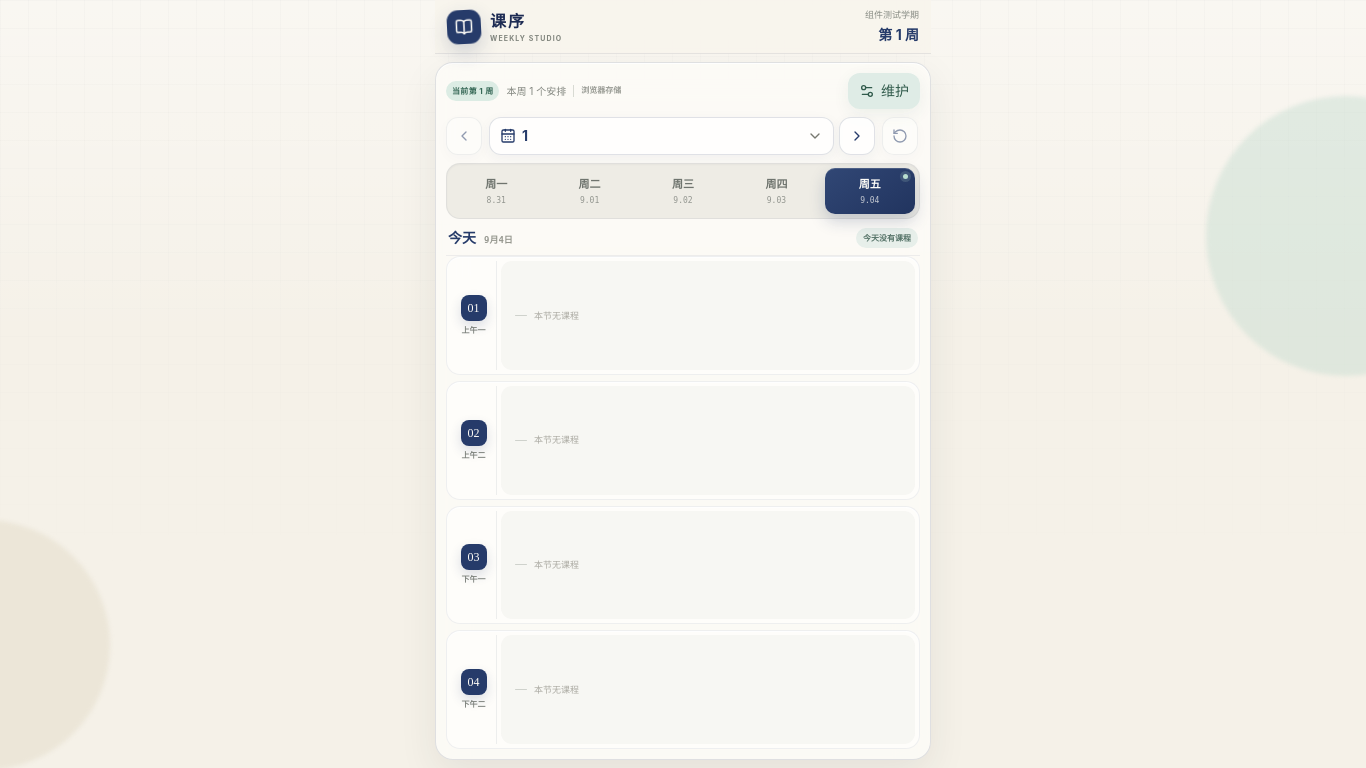
course schedule page › 按日期标签切换当天课程，并展示空节次
What coordinates should you click on to do the following:
click the tab "周二 9.01"
I would click on:
 (590, 191)
Its box is [544,168,635,214].
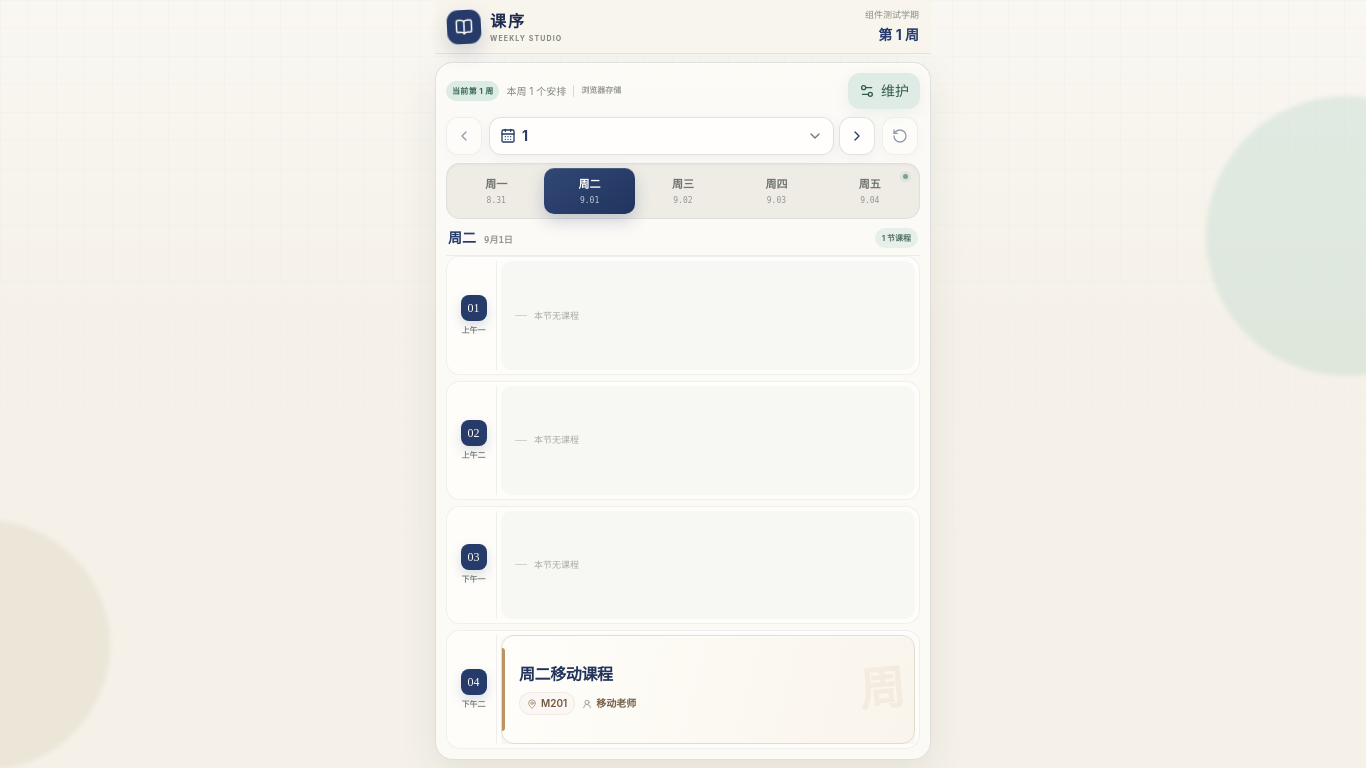
Expected: the text "本节无课程" is shown 3 times, [534,309,579,322]; [534,433,579,447]; [534,558,579,572]
Expected: the heading "周二移动课程" is shown, [519,664,613,684]
